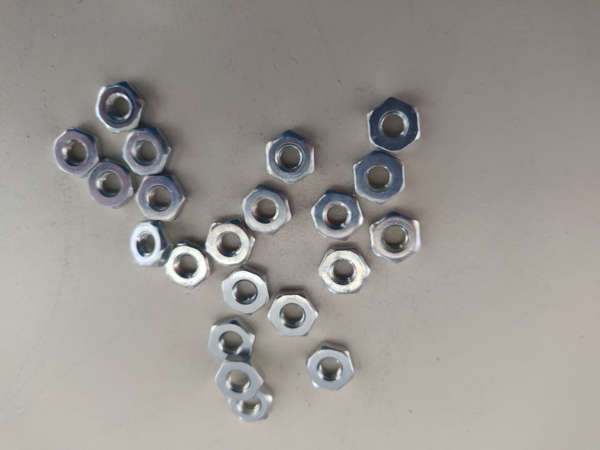nut: (366, 99, 421, 151), (240, 182, 292, 235), (263, 131, 315, 183), (352, 153, 405, 204), (203, 217, 254, 270), (318, 247, 371, 296), (369, 213, 420, 263), (223, 261, 269, 316), (266, 290, 317, 339), (96, 81, 144, 133), (305, 342, 354, 392), (313, 191, 363, 239), (52, 127, 98, 179), (122, 127, 170, 176), (137, 173, 184, 223), (208, 320, 259, 365), (212, 360, 265, 401), (87, 165, 133, 209), (168, 240, 210, 286), (128, 225, 170, 269), (225, 392, 274, 423)
